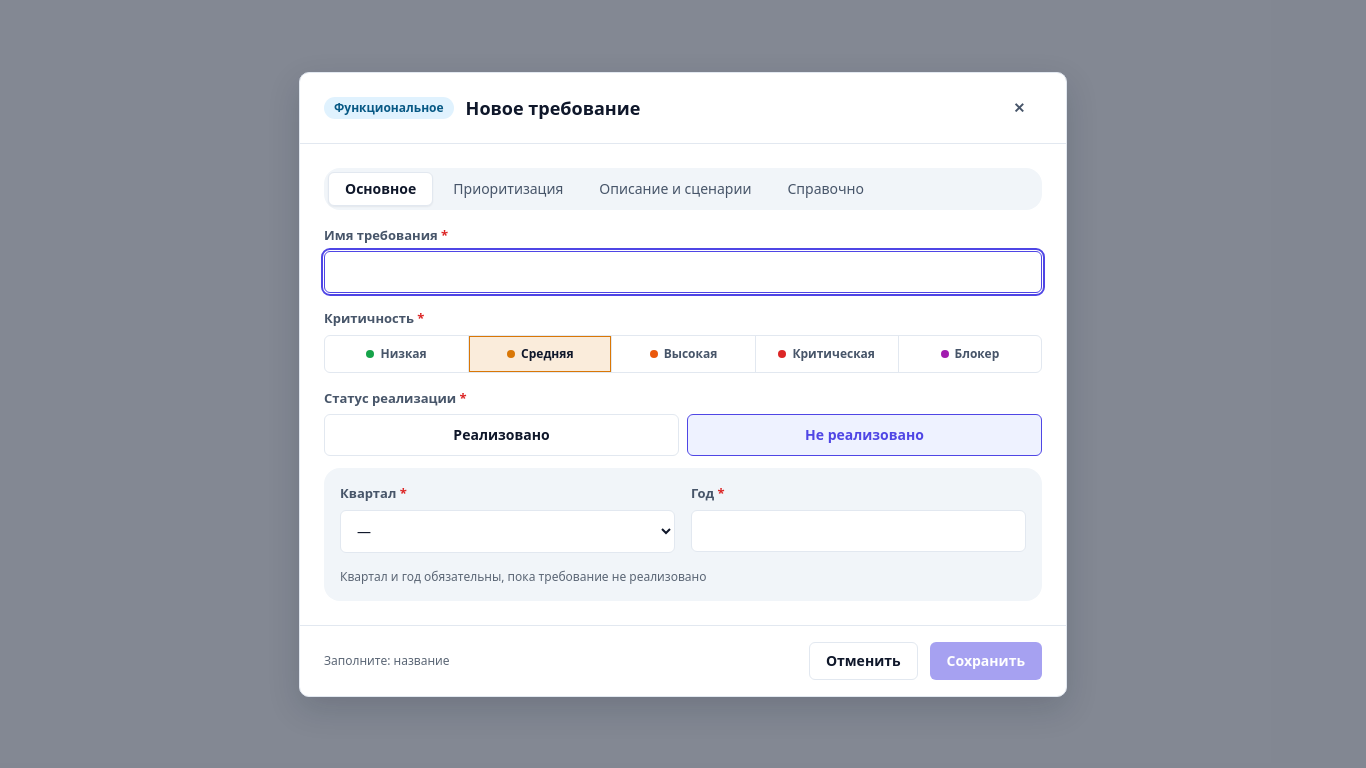
Test case: RequirementModal (T-1106, FR-6) › blocks "Сохранить" when the name is a duplicate (FR-6.6)
The width and height of the screenshot is (1366, 768).
Type "Платежи" into the field with test id "req-name" at {"x": 683, "y": 272}, box [324, 251, 1042, 293]
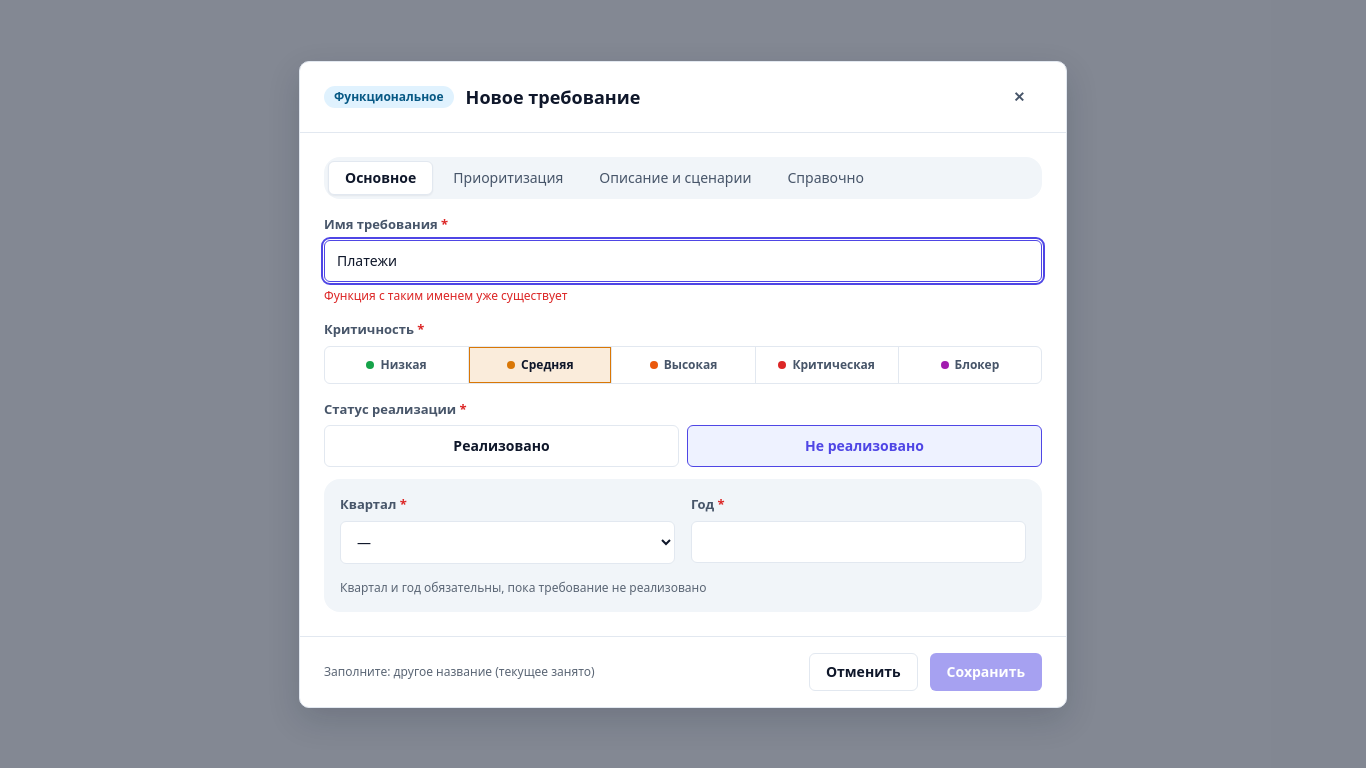
Expected: the button with test id "req-submit" is disabled, [930, 652, 1042, 690]
Result: the text with test id "req-name-status" reads "Функция с таким именем уже существует" at [324, 287, 568, 304]
